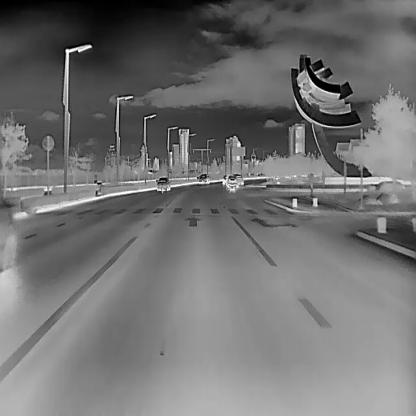car: (155, 175, 170, 191), (225, 174, 238, 188), (198, 172, 209, 184), (233, 173, 243, 186)
